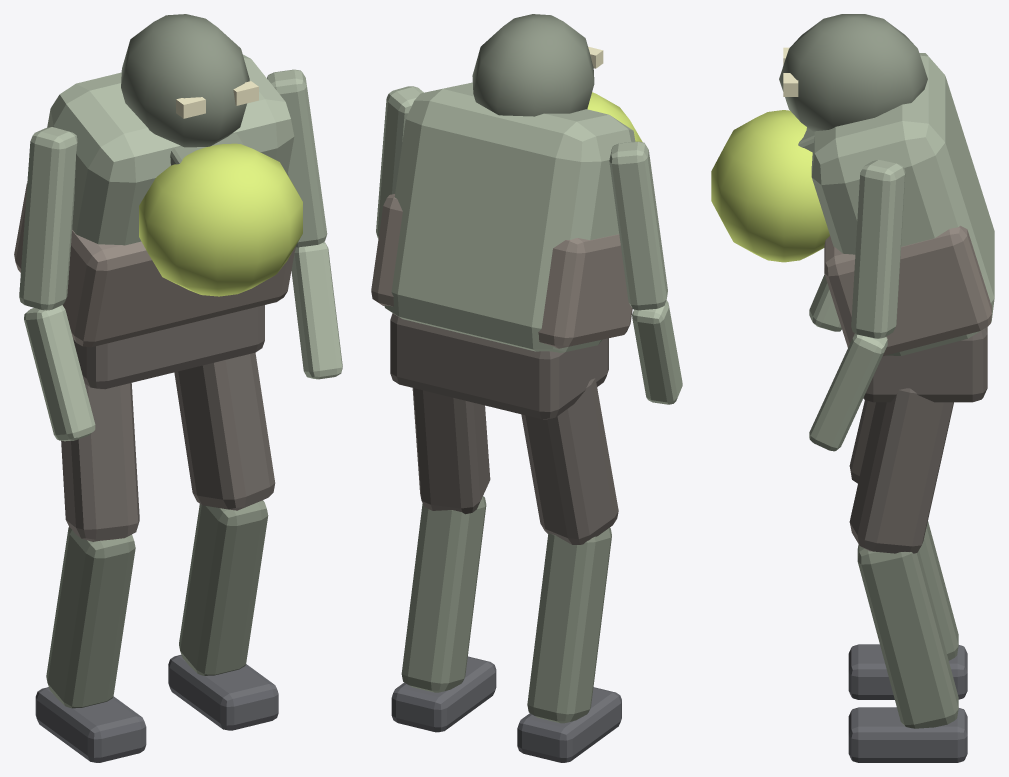
Rendered from enemy_spitter.fbx.
The picture shows the model from 3 angles, left to right: view 1: azimuth 30°, elevation 25°; view 2: azimuth 150°, elevation 25°; view 3: azimuth 270°, elevation 25°; orthographic projection. The views are drawn at different scales.
Parts seen in each view (by area): view 1: enemy_spitter, LegL.005, LegR.005, ArmR, Head, ArmL; view 2: enemy_spitter, LegR.005, LegL.005, ArmR, Head, ArmL; view 3: enemy_spitter, LegL.005, Head, ArmL, LegR.005, ArmR.
Boxes of the visible parts, left/top/right/bottom form: enemy_spitter: left=14, top=54, right=302, bottom=389; LegL.005: left=168, top=352, right=278, bottom=730; LegR.005: left=35, top=383, right=146, bottom=762; ArmR: left=19, top=127, right=95, bottom=441; Head: left=121, top=14, right=258, bottom=165; ArmL: left=267, top=69, right=342, bottom=379; enemy_spitter: left=371, top=82, right=642, bottom=419; LegR.005: left=517, top=378, right=621, bottom=762; LegL.005: left=391, top=388, right=496, bottom=732; ArmR: left=609, top=141, right=682, bottom=404; Head: left=472, top=14, right=603, bottom=116; ArmL: left=376, top=86, right=423, bottom=238; enemy_spitter: left=711, top=53, right=994, bottom=402; LegL.005: left=848, top=388, right=967, bottom=762; Head: left=779, top=14, right=927, bottom=152; ArmL: left=809, top=160, right=905, bottom=451; LegR.005: left=848, top=400, right=967, bottom=699; ArmR: left=809, top=274, right=841, bottom=331.
Size of the model in its own units: 0.6867 by 1.56 by 0.5704.
